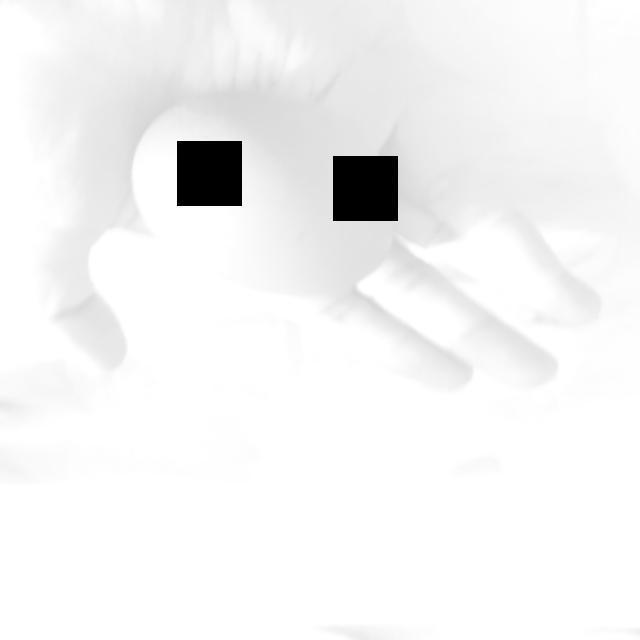egg: (131, 94, 400, 300)
